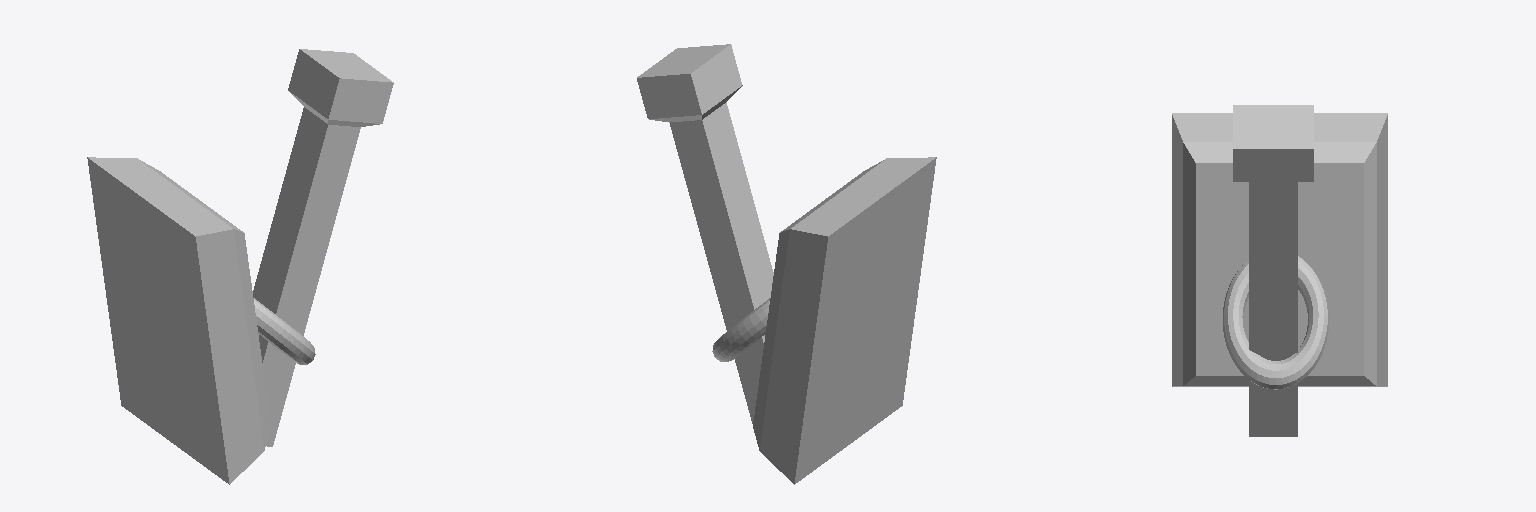
The model's file is scone.obj.
The picture shows the model from 3 angles: view 1: azimuth 30°, elevation 25°; view 2: azimuth 150°, elevation 25°; view 3: azimuth 270°, elevation 25°; orthographic projection.
Visible parts, largest first — view 1: scone; view 2: scone; view 3: scone.
Part boxes in pixels (bbox=[...]): scone: bbox=[87, 49, 393, 484]; scone: bbox=[637, 44, 936, 484]; scone: bbox=[1172, 105, 1387, 436].
Size of the model in its own units: 1.01 by 1.51 by 0.8258.